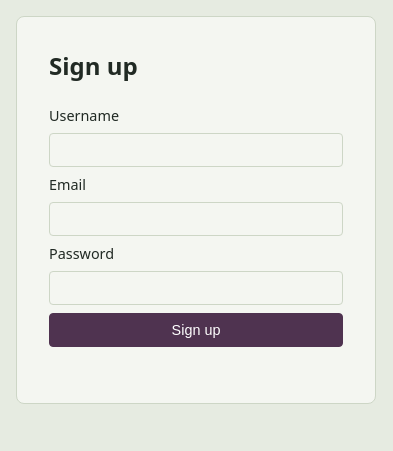
Signup error branches › shows the server-provided error message on a 409 (username taken)
Type "antonio" into the field labelled "Username". click: (196, 150)
box: [49,133,343,167]
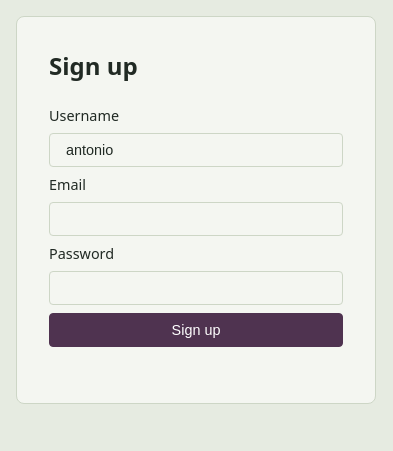
Type "antonio@example.com" into the field labelled "Email". click: (196, 219)
box: [49,202,343,236]
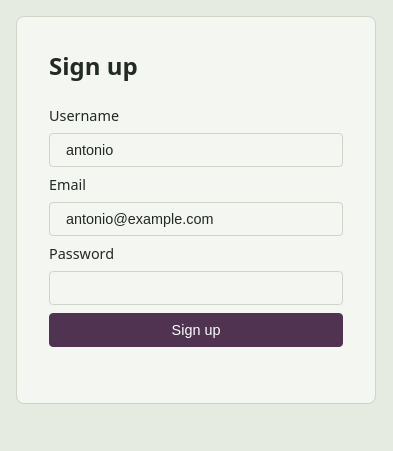
Type "longenoughpassword" into the password field labelled "Password". click: (196, 288)
box: [49,271,343,305]
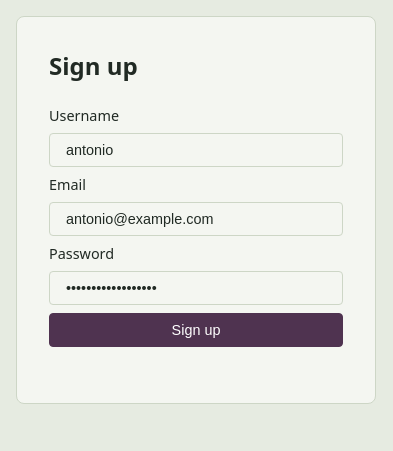
Click the button "Sign up". click: (196, 330)
box: [49,313,343,347]
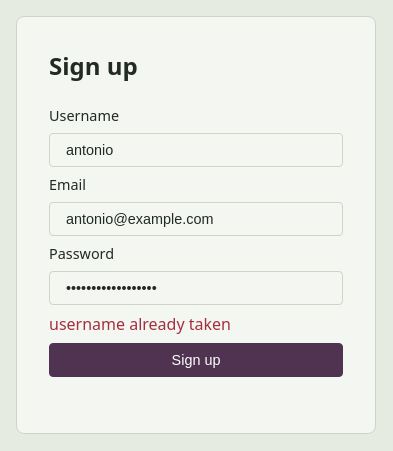
Result: the message reads "username already taken" at [49,313,231,335]
